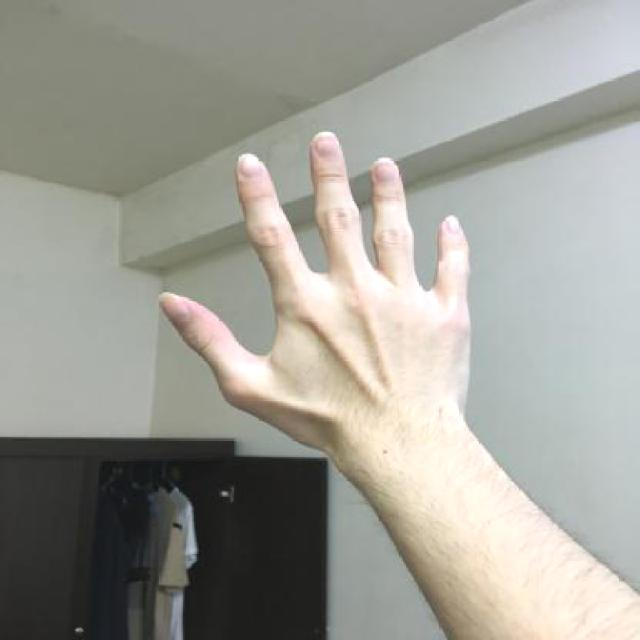no_glove: (147, 120, 484, 506)
